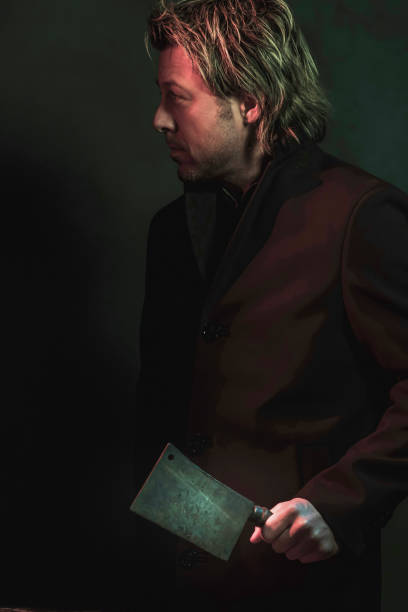knife: (122, 438, 278, 567)
